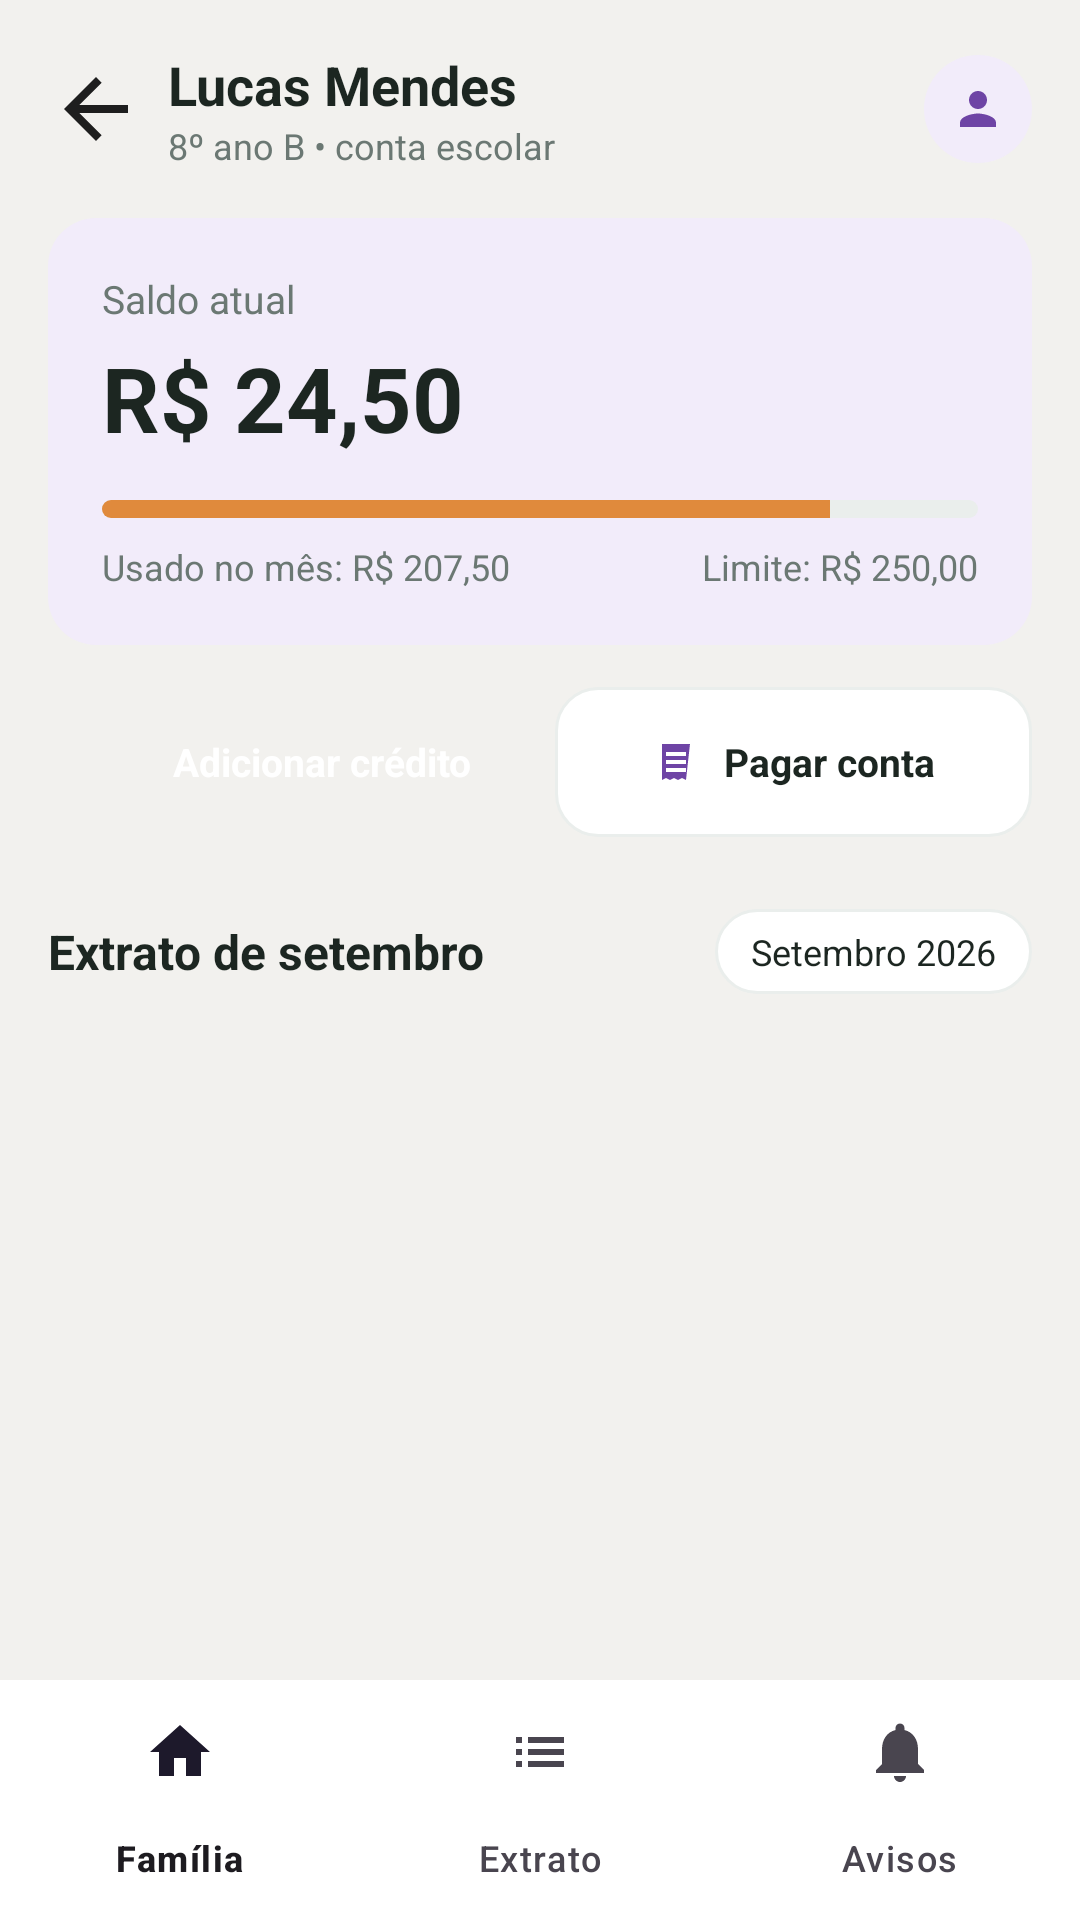

Screen size 1080 x 1920. Icon name, then its center in pixels as (x,y):
arrow back: (96,109)
person: (978,109)
receipt: (676,762)
